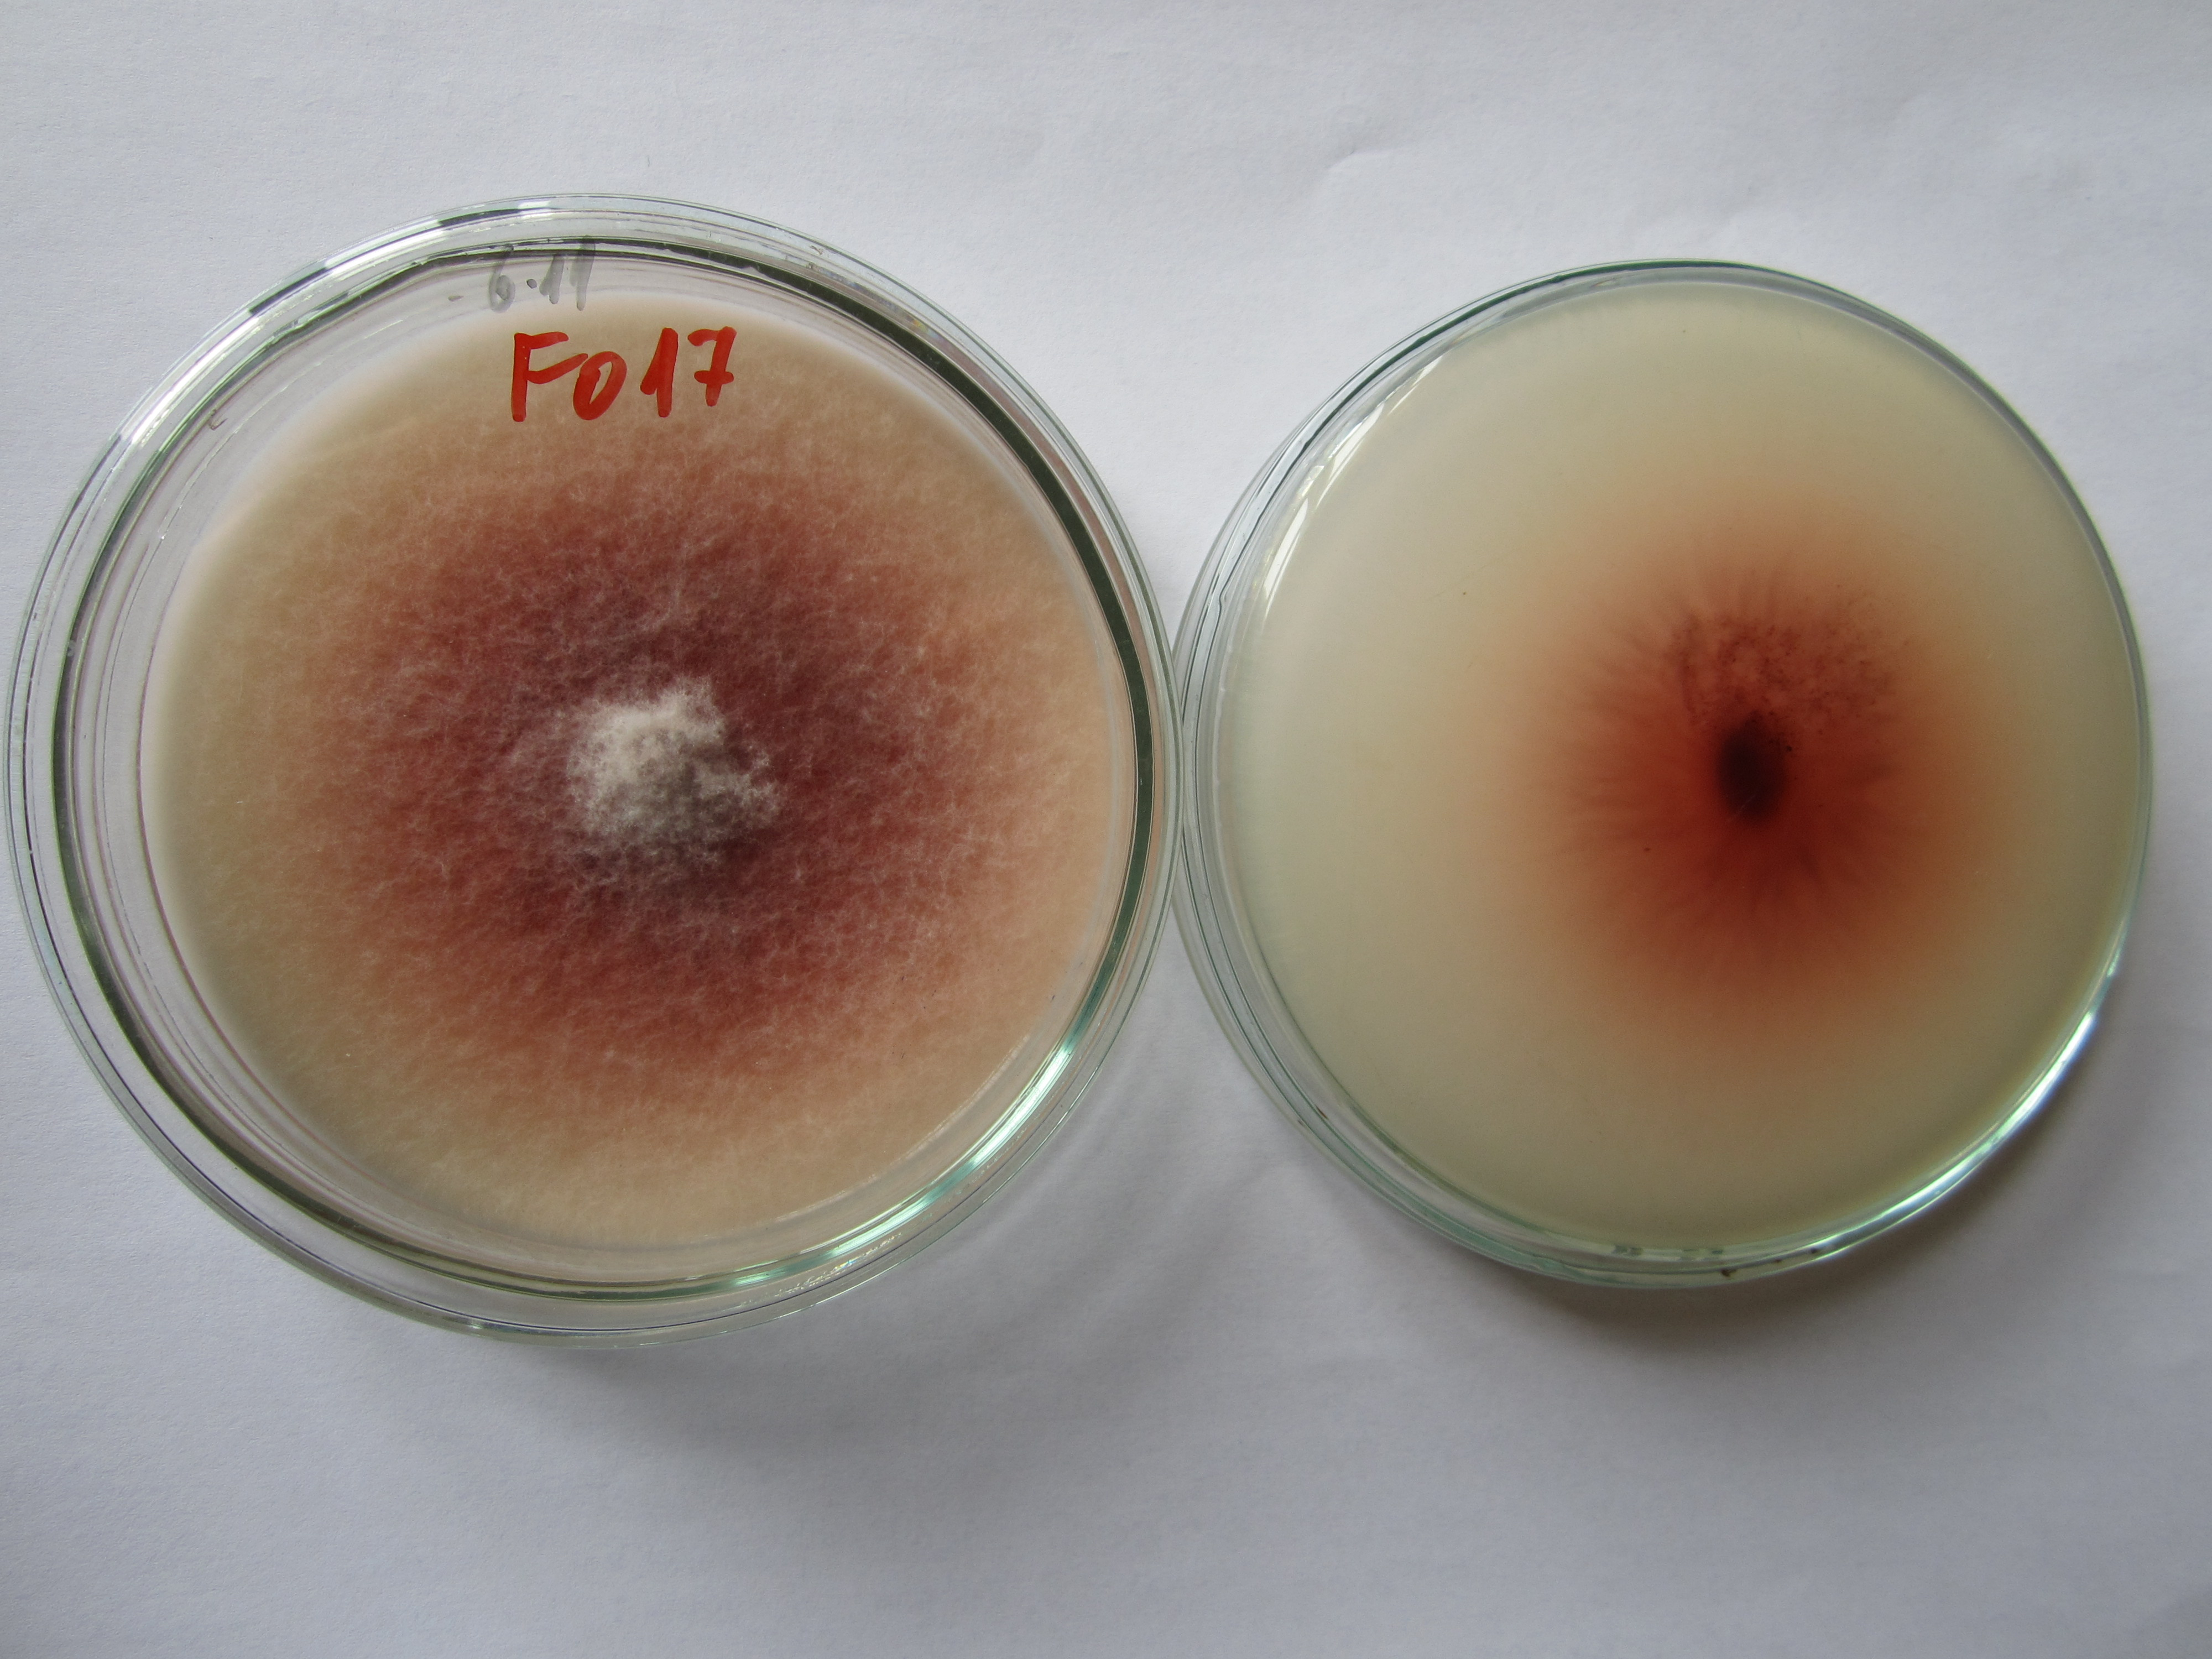Fusarium: (327, 512, 935, 1033), (1576, 577, 1921, 938)
